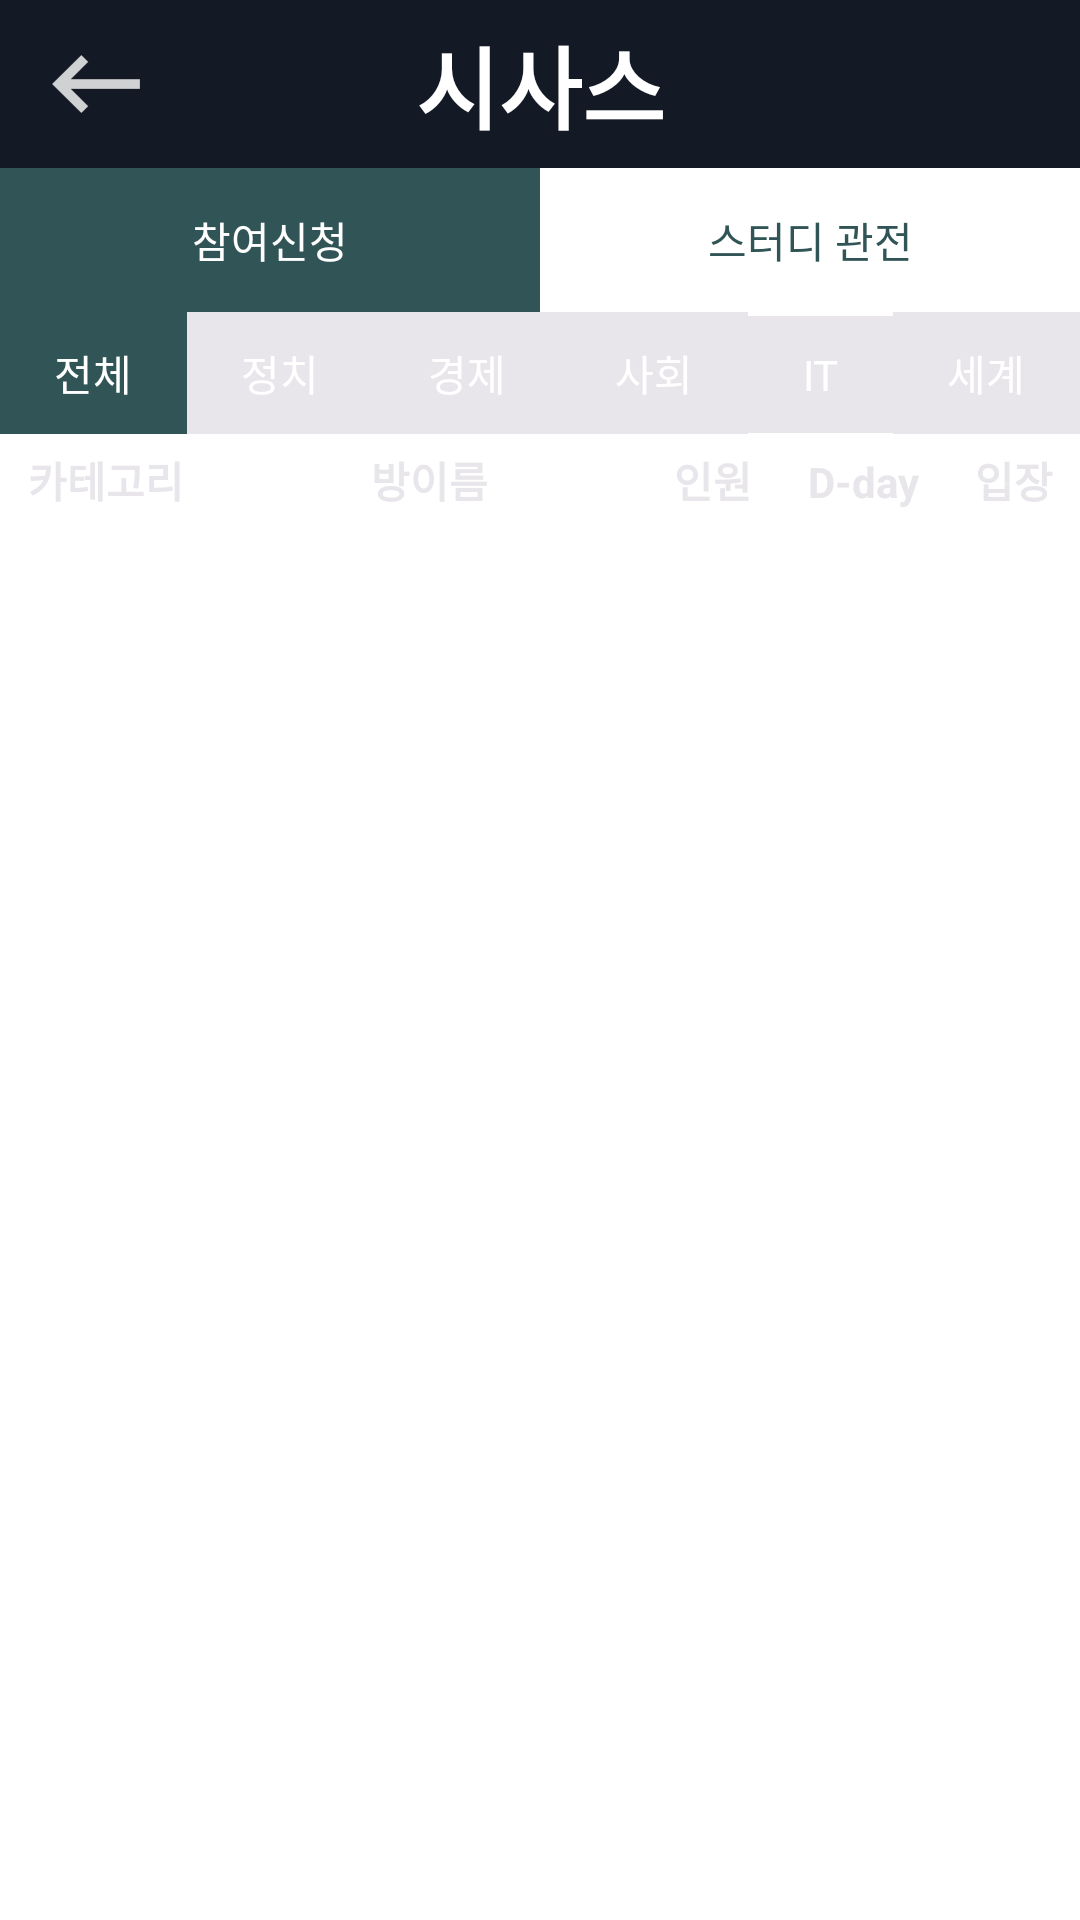

Where to tap for icons on this 1080x1920 app screen, as (x,y):
back: (96,84)
